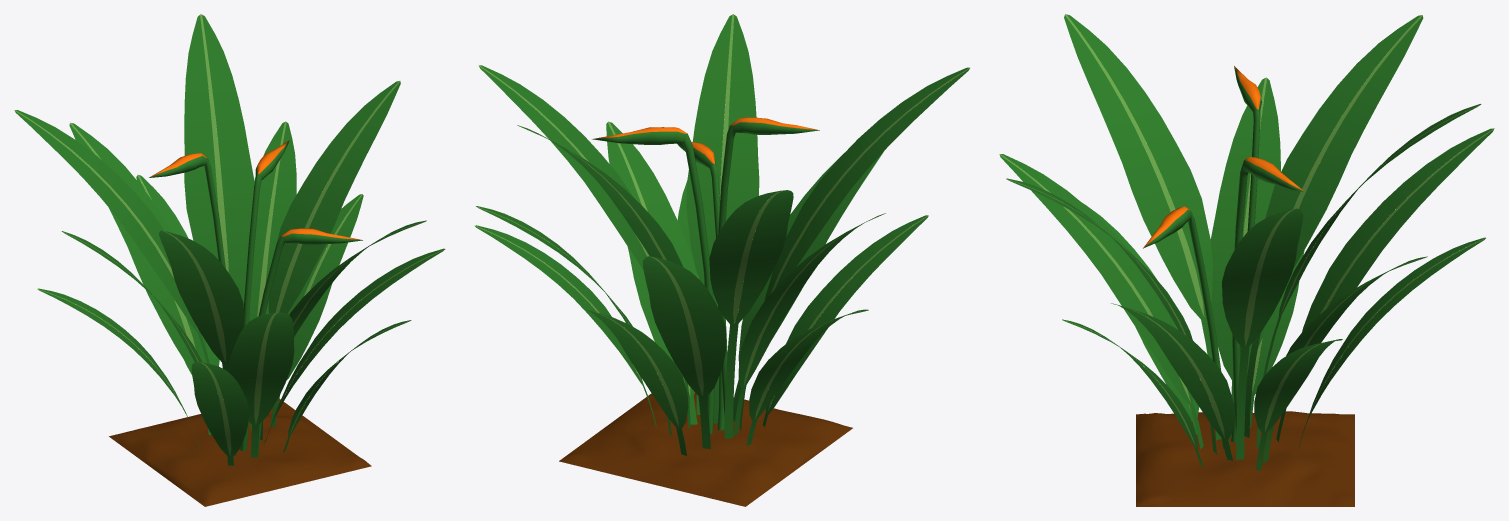
The model's file is bird-of-paradise-p4-leaf.glb.
The picture shows the model from 3 angles, left to right: view 1: azimuth 30°, elevation 25°; view 2: azimuth 150°, elevation 25°; view 3: azimuth 270°, elevation 25°; orthographic projection. The views are drawn at different scales.
Parts seen in each view (by area): view 1: 4_nft_out_of_bloom; view 2: 4_nft_out_of_bloom; view 3: 4_nft_out_of_bloom.
Part boxes in pixels (x1,y1,x2,y2): 4_nft_out_of_bloom: (14,14,445,506); 4_nft_out_of_bloom: (474,14,969,506); 4_nft_out_of_bloom: (999,14,1494,506).
Size of the model in its own units: 1.49 by 1.38 by 1.58.
